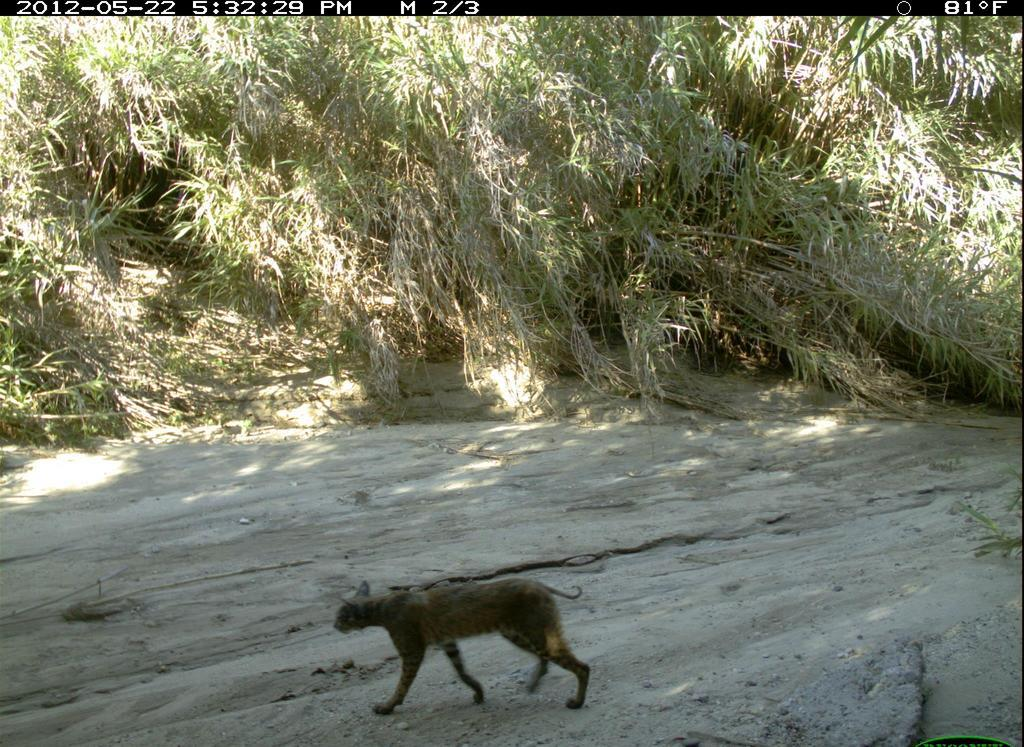bobcat: (328, 559, 617, 724)
